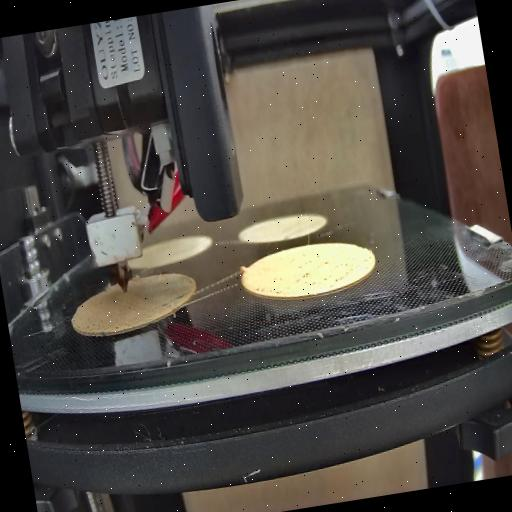under_extrusion: (293, 248, 362, 296), (74, 310, 127, 346), (155, 286, 191, 314), (253, 278, 288, 303)
